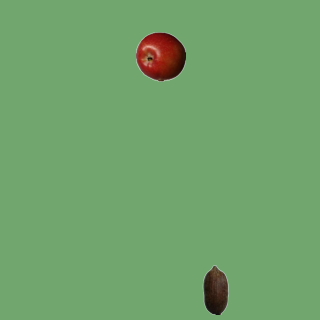Apple Braeburn: (135, 31, 185, 81)
Nut Pecan: (190, 264, 240, 314)
